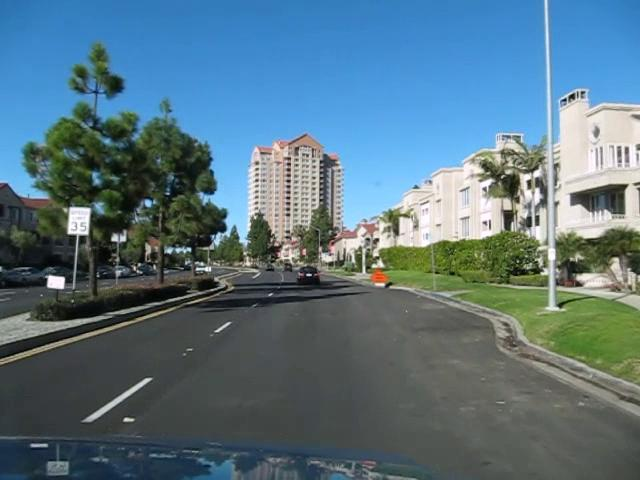speedLimit35: (67, 206, 90, 235)
